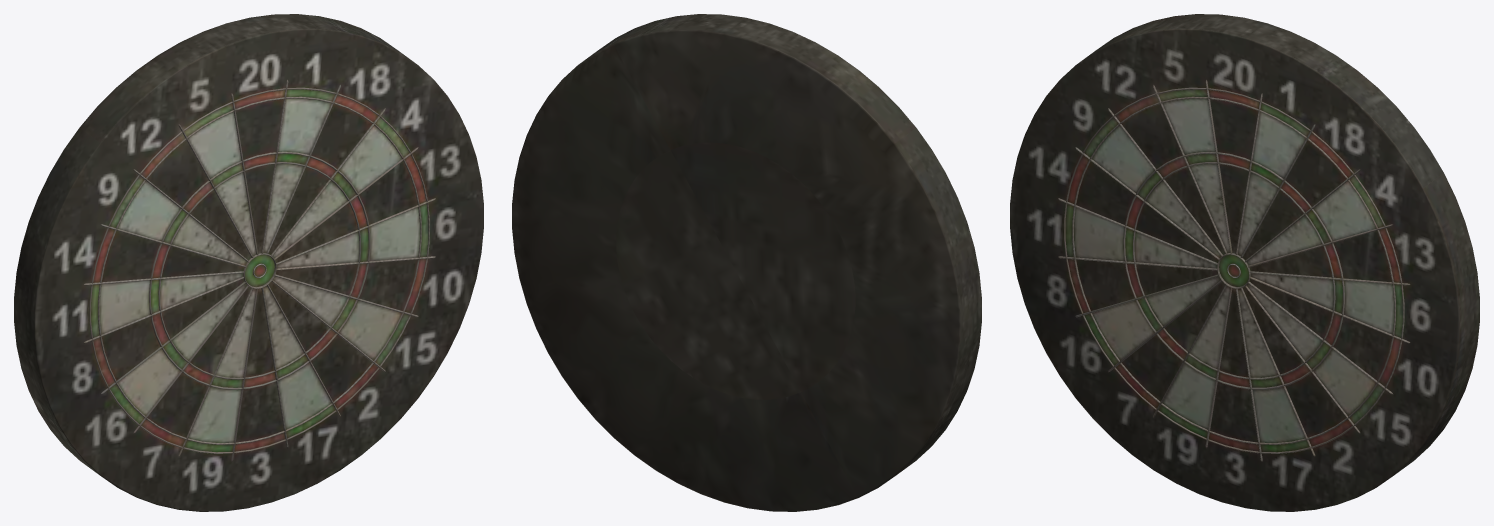
File: dartboard.glb
3 renders of one model, left to right at view 1: azimuth 30°, elevation 25°; view 2: azimuth 150°, elevation 25°; view 3: azimuth 330°, elevation 25°, orthographic.
Parts seen in each view (by area): view 1: dartboard; view 2: dartboard; view 3: dartboard.
Part boxes in pixels (box(x1,y1,x2,y2)): dartboard: box(14, 14, 483, 511); dartboard: box(512, 14, 981, 511); dartboard: box(1010, 14, 1479, 511).
Size of the model in its own units: 0.4507 by 0.4507 by 0.0398.
Materials: 1 (1 with a texture image).
